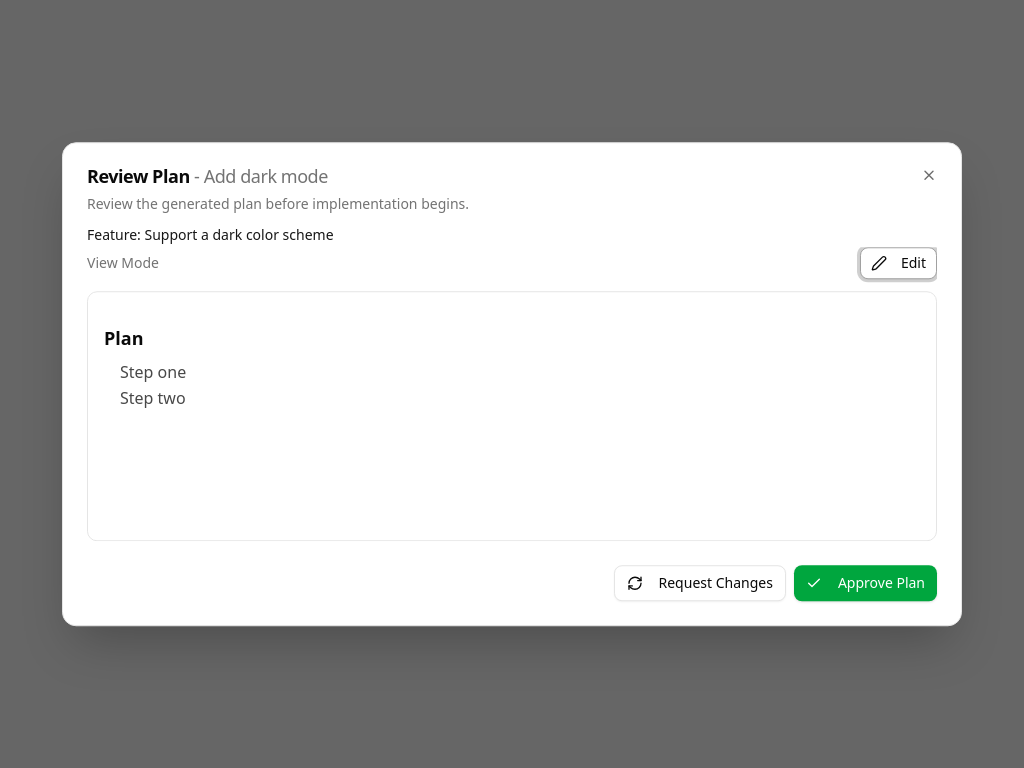
Scenario: PlanApprovalDialog — reject / feedback flow › shows feedback textarea after clicking "Request Changes"
Click the button "Request Changes". click: (700, 583)
box: x1=614 y1=565 x2=786 y2=601
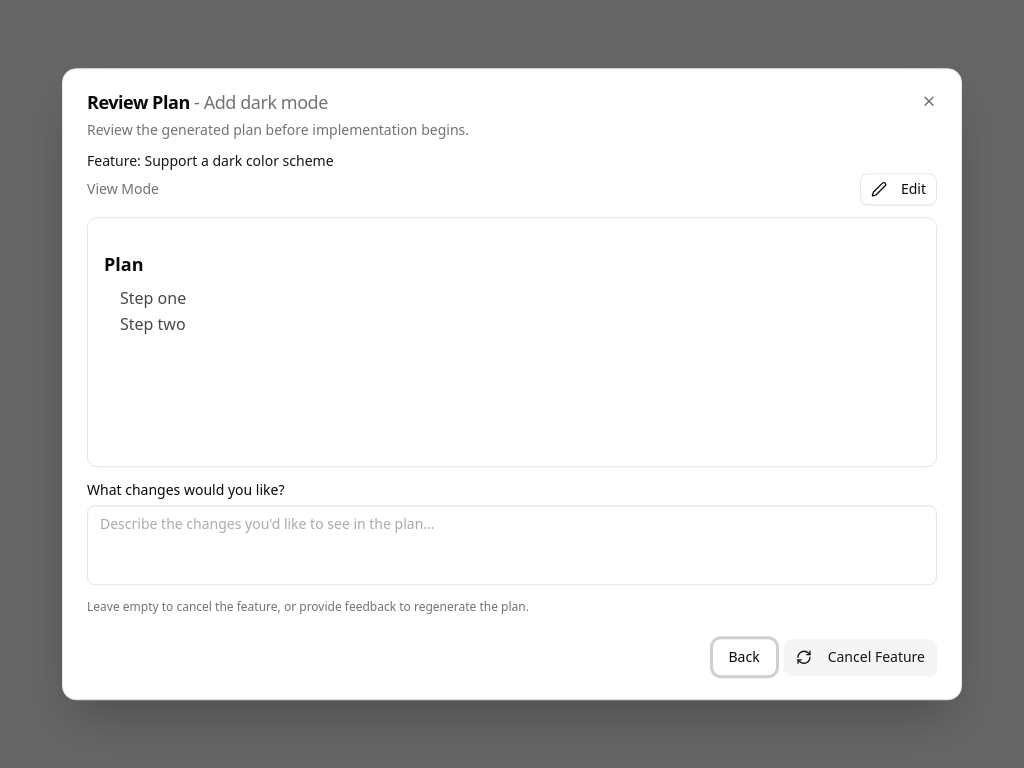
Expected: the text box labelled "What changes would you like?" is shown, x1=87 y1=505 x2=937 y2=585
